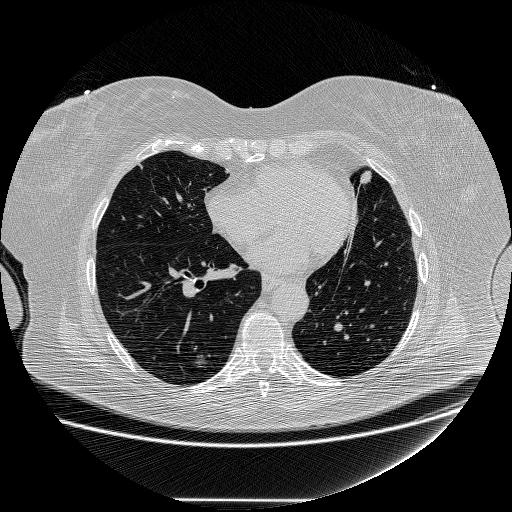nodule: (357, 169, 374, 186)
